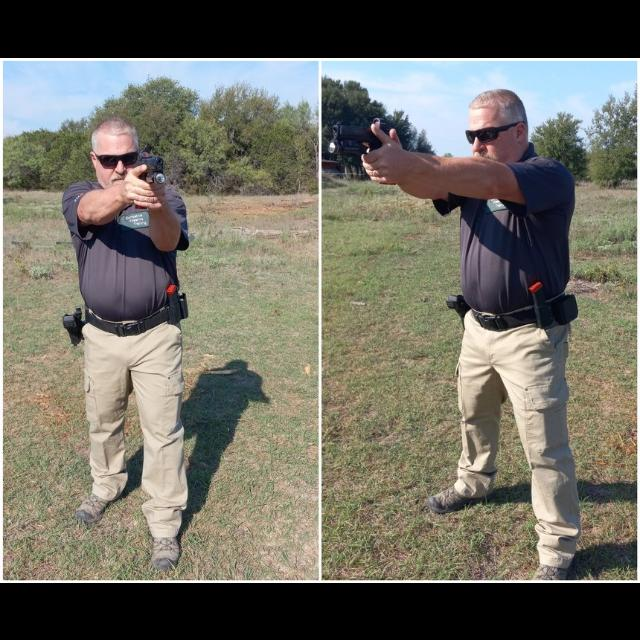handgun: (326, 114, 394, 158), (134, 148, 166, 184)
